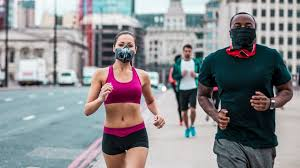with-mask: (104, 28, 144, 69), (227, 12, 261, 51)
